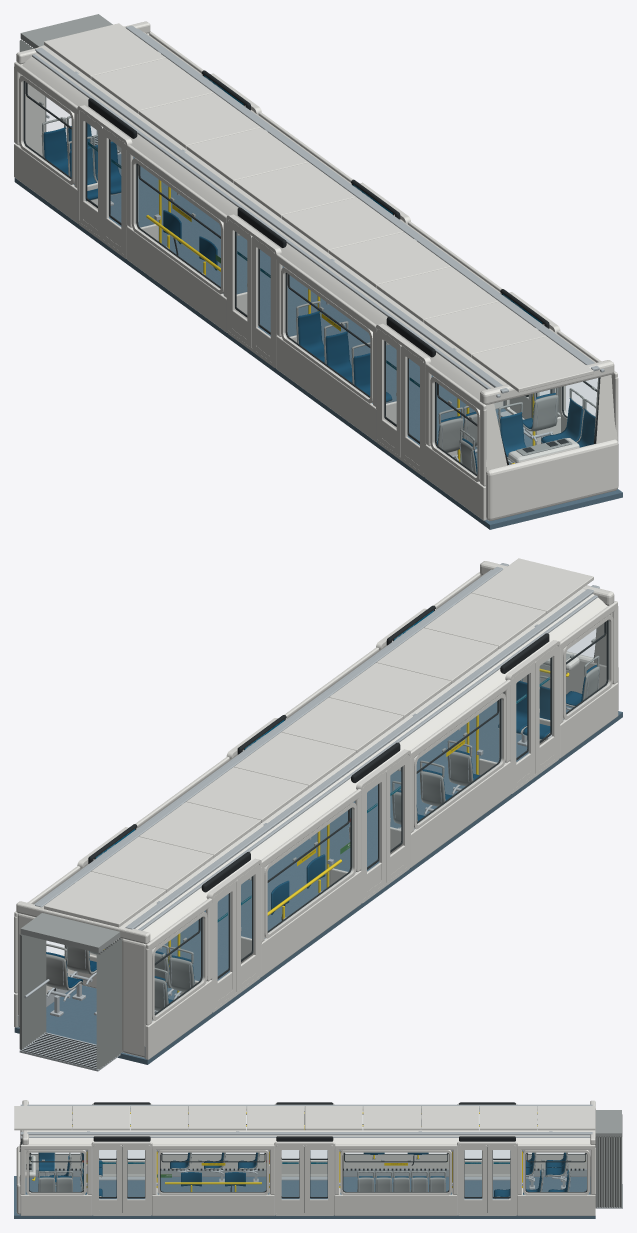
File: mark-v-a-car-study.glb
3 views of the same model, one above another, from view 1: azimuth 30°, elevation 25°; view 2: azimuth 150°, elevation 25°; view 3: azimuth 270°, elevation 25° (orthographic). The views are drawn at different scales.
Parts seen in each view (by area): view 1: interior-batch-panel, interior-batch-glass, interior-batch-floor, interior-batch-metal, interior-batch-seat, interior-batch-rubber, interior-batch-shell, interior-batch-rail, interior-batch-information; view 2: interior-batch-panel, interior-batch-glass, interior-batch-floor, interior-batch-metal, interior-batch-shell, interior-batch-rubber, interior-batch-seat, interior-batch-rail, interior-batch-information; view 3: interior-batch-panel, interior-batch-glass, interior-batch-metal, interior-batch-floor, interior-batch-shell, interior-batch-rubber, interior-batch-seat, interior-batch-rail, interior-batch-information.
Boxes of the visible parts, bbox=[...] form: interior-batch-panel: bbox=[14, 21, 618, 520]; interior-batch-glass: bbox=[23, 82, 599, 475]; interior-batch-floor: bbox=[14, 154, 622, 529]; interior-batch-metal: bbox=[32, 25, 604, 470]; interior-batch-seat: bbox=[43, 123, 595, 474]; interior-batch-rubber: bbox=[23, 70, 600, 476]; interior-batch-shell: bbox=[19, 14, 596, 473]; interior-batch-rail: bbox=[146, 179, 535, 464]; interior-batch-information: bbox=[88, 75, 542, 387]; interior-batch-panel: bbox=[14, 558, 618, 1059]; interior-batch-glass: bbox=[47, 620, 609, 1014]; interior-batch-floor: bbox=[14, 701, 622, 1064]; interior-batch-metal: bbox=[17, 563, 599, 1071]; interior-batch-shell: bbox=[19, 638, 600, 1068]; interior-batch-rubber: bbox=[22, 605, 608, 1068]; interior-batch-seat: bbox=[46, 664, 596, 1003]; interior-batch-rail: bbox=[104, 668, 569, 992]; interior-batch-information: bbox=[95, 610, 549, 922]; interior-batch-panel: bbox=[14, 1100, 595, 1215]; interior-batch-glass: bbox=[21, 1143, 586, 1196]; interior-batch-metal: bbox=[20, 1104, 622, 1208]; interior-batch-floor: bbox=[14, 1176, 595, 1218]; interior-batch-shell: bbox=[25, 1110, 622, 1207]; interior-batch-rubber: bbox=[19, 1102, 587, 1212]; interior-batch-seat: bbox=[39, 1152, 568, 1196]; interior-batch-rail: bbox=[32, 1112, 537, 1191]; interior-batch-information: bbox=[82, 1108, 509, 1177].
Bounding box in the file's own units: 2.56 × 2.42 × 16.34.
Materials: 10 (3 with a texture image).
